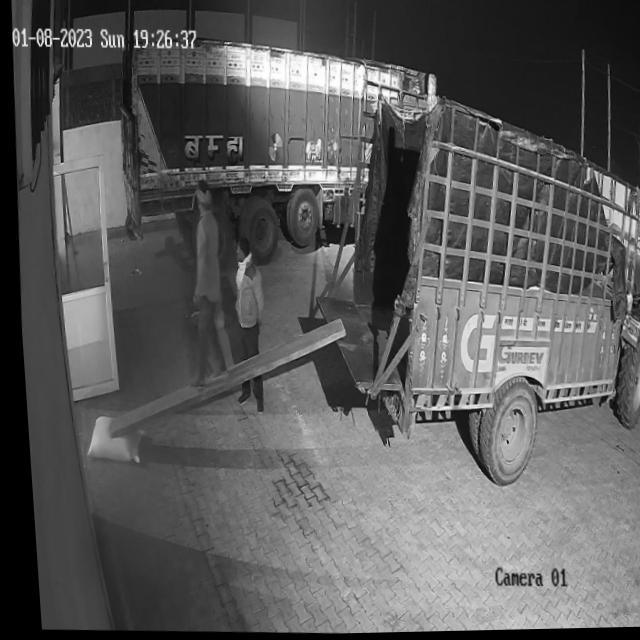sack: (78, 414, 137, 466)
